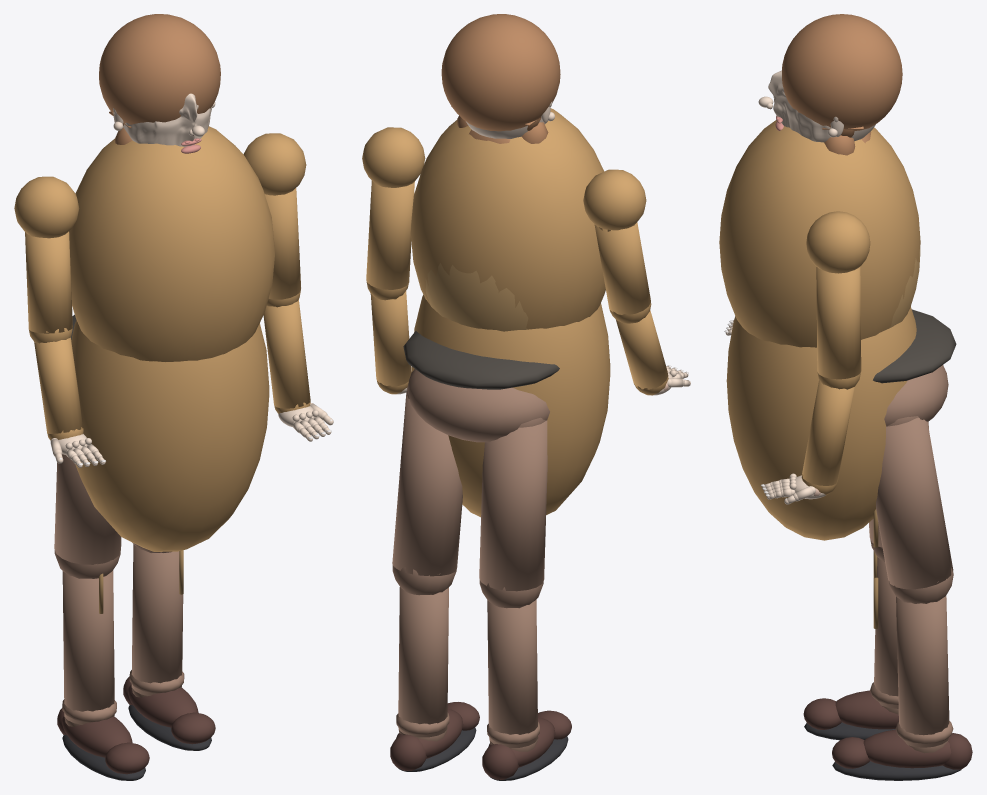
The model's file is hm_ped_ivy_v7.glb.
3 views of the same model, side by side, from view 1: azimuth 30°, elevation 25°; view 2: azimuth 150°, elevation 25°; view 3: azimuth 270°, elevation 25° (orthographic). The views are drawn at different scales.
Visible parts, largest first — view 1: hm_ped_ivy; view 2: hm_ped_ivy; view 3: hm_ped_ivy.
Part boxes in pixels (x1=…): hm_ped_ivy: x1=14, y1=14, x2=333, y2=780; hm_ped_ivy: x1=362, y1=14, x2=690, y2=780; hm_ped_ivy: x1=719, y1=14, x2=972, y2=780.
Size of the model in its own units: 0.7337 by 1.77 by 0.5523.
